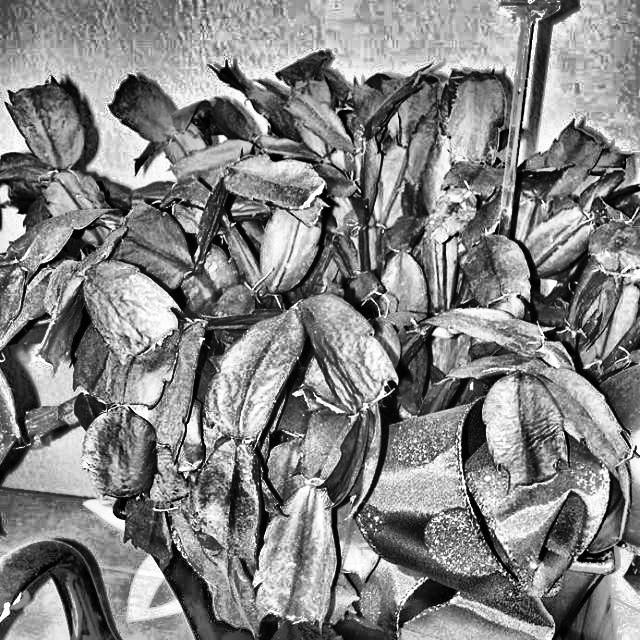plants: (0, 45, 639, 640), (60, 256, 358, 631), (428, 240, 640, 496), (420, 65, 510, 238), (205, 130, 348, 234)
